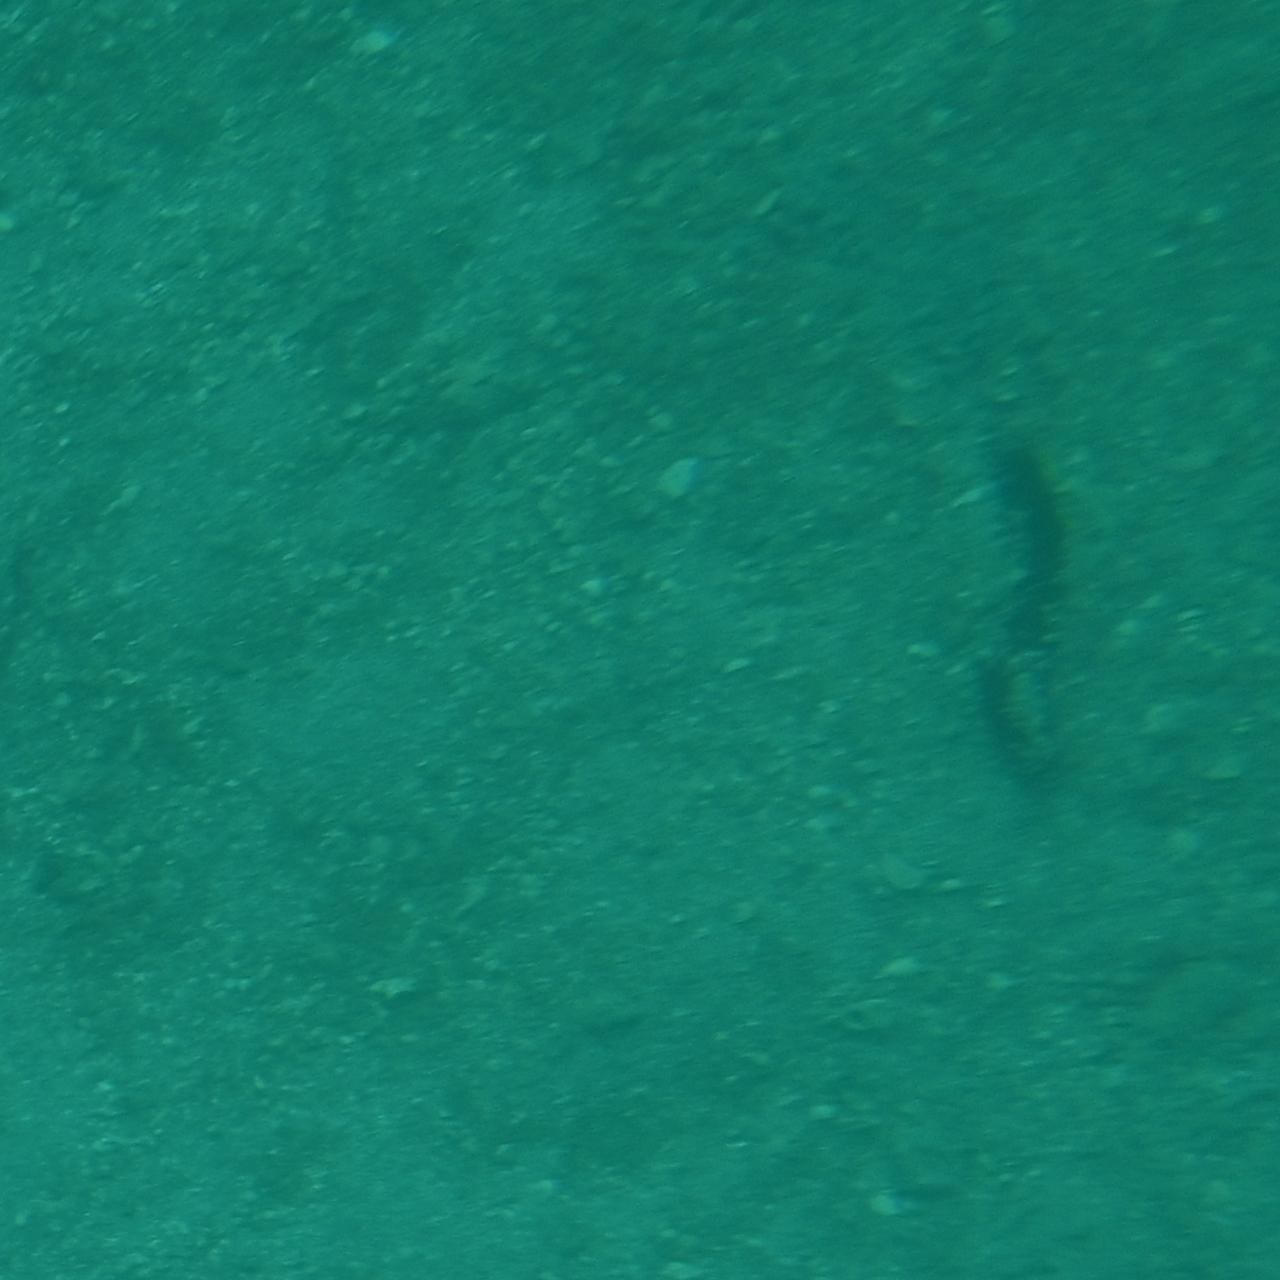Holothuria tubulosa: (987, 422, 1090, 858)
